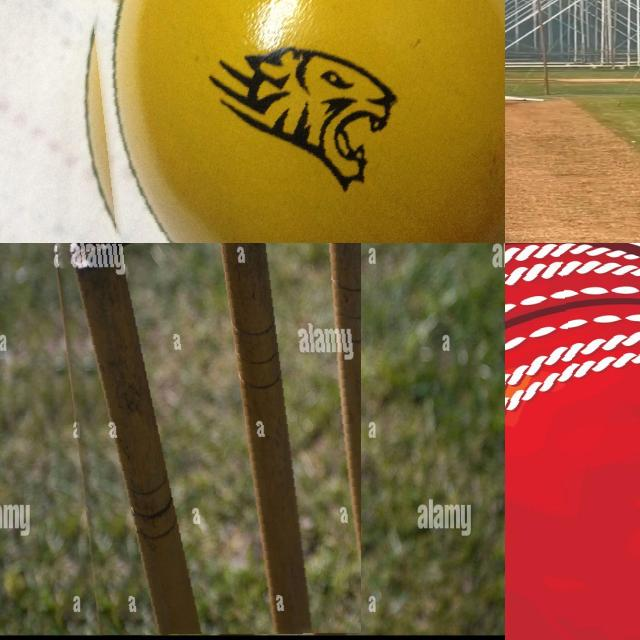Cricket ball: (71, 0, 505, 243), (505, 243, 640, 640)
Stumps: (41, 243, 360, 635)
